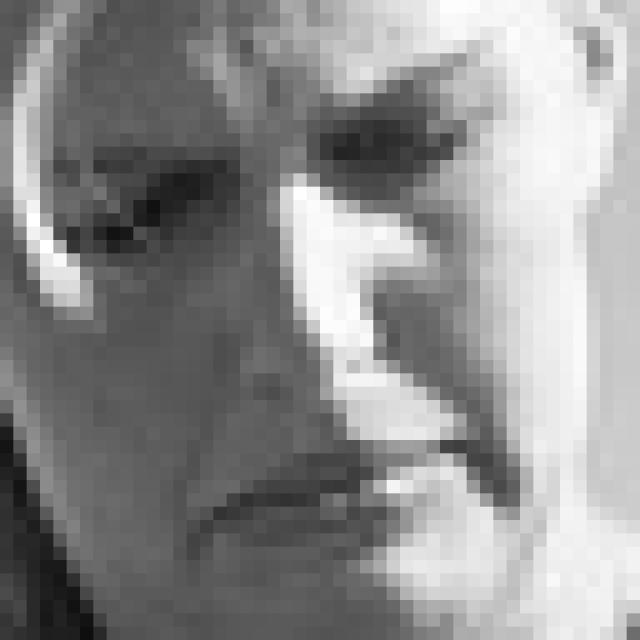disgust: (46, 40, 524, 582)
